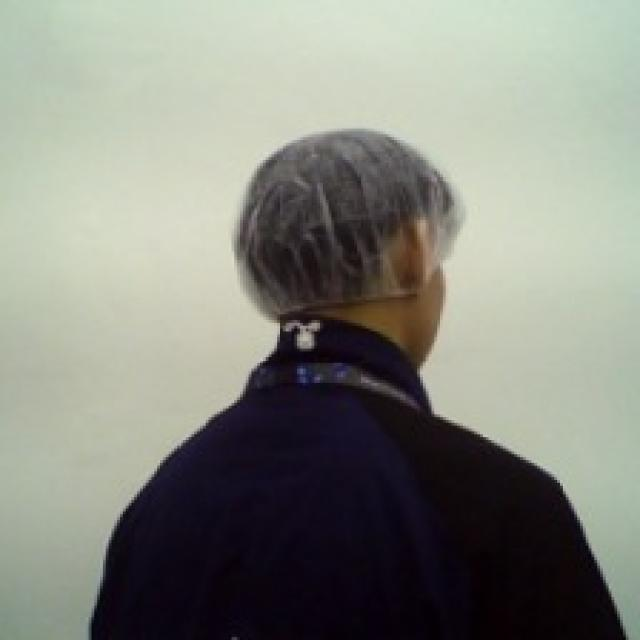gloves: (232, 118, 472, 337)
